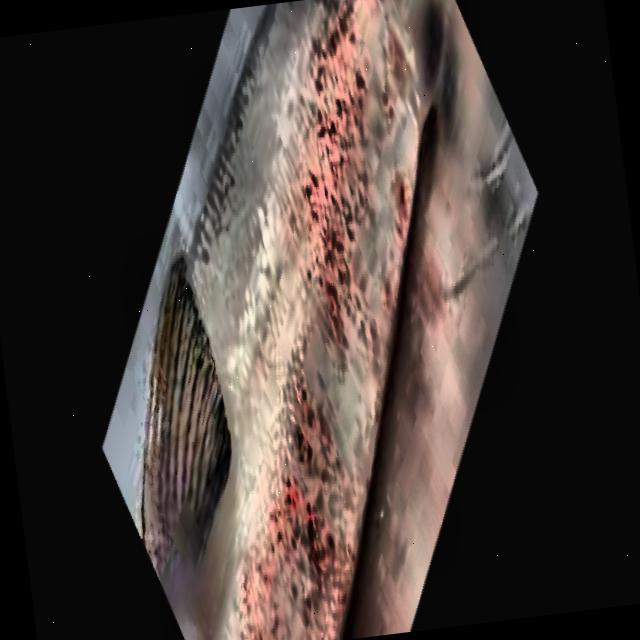mild_red: (192, 0, 446, 640)
